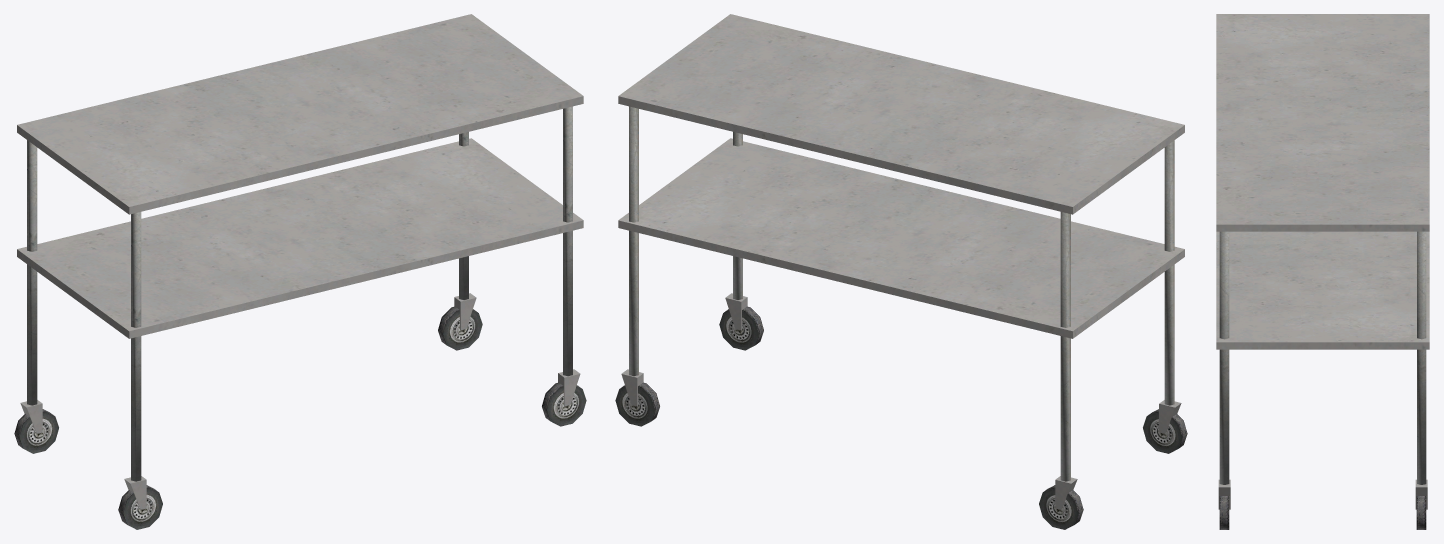
Rendered from Prop_Yytc02.glb.
3 views of the same model, side by side, from view 1: azimuth 30°, elevation 25°; view 2: azimuth 150°, elevation 25°; view 3: azimuth 270°, elevation 25° (orthographic). The views are drawn at different scales.
Parts seen in each view (by area): view 1: xiutz_yytc_02; view 2: xiutz_yytc_02; view 3: xiutz_yytc_02.
Part boxes in pixels (<box>): xiutz_yytc_02: <box>14,14,586,529</box>; xiutz_yytc_02: <box>615,14,1187,529</box>; xiutz_yytc_02: <box>1216,14,1429,529</box>.
Bounding box in the file's own units: 2.06 × 1.39 × 0.8647.
1 material, 1 textured.
